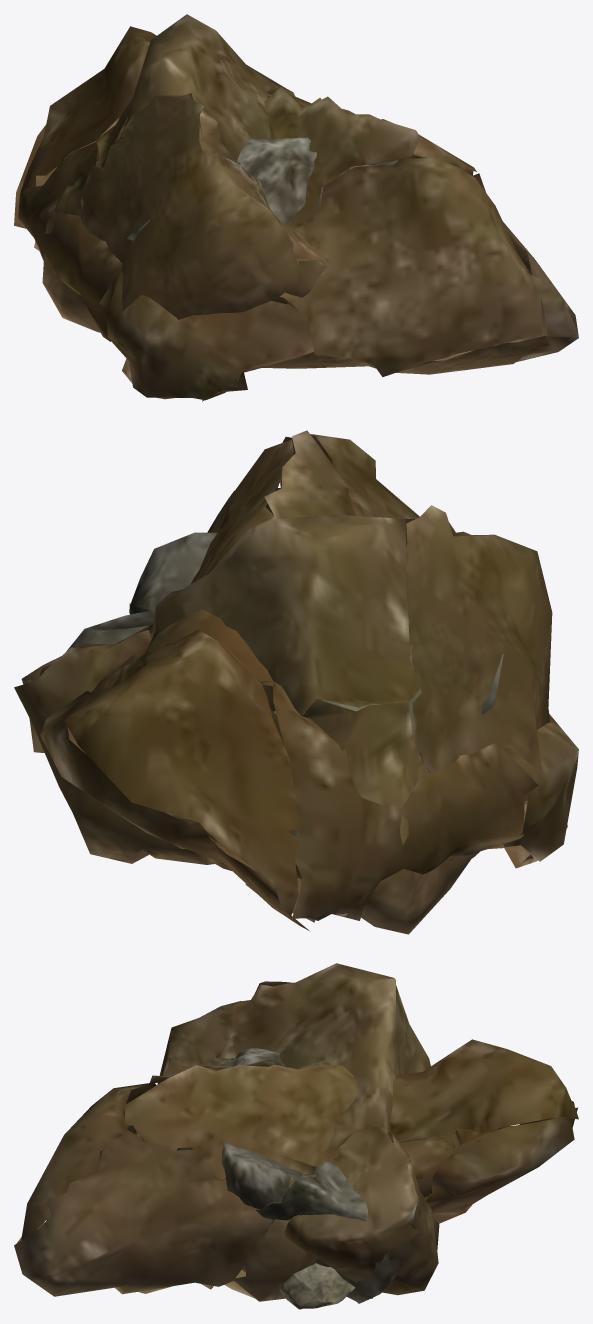
The model's file is rocks.glb.
The picture shows the model from 3 angles, top to bottom: view 1: azimuth 30°, elevation 25°; view 2: azimuth 150°, elevation 25°; view 3: azimuth 270°, elevation 25°; orthographic projection. The views are drawn at different scales.
Parts seen in each view (by area): view 1: Rock0Mesh, Rock1Mesh, Rock2Mesh; view 2: Rock0Mesh, Rock1Mesh, Rock2Mesh; view 3: Rock0Mesh, Rock1Mesh, Rock2Mesh, Rock3Mesh.
Part boxes in pixels (x1=…): Rock0Mesh: x1=14, y1=26, x2=578, y2=401; Rock1Mesh: x1=42, y1=14, x2=328, y2=332; Rock2Mesh: x1=127, y1=137, x2=398, y2=240; Rock0Mesh: x1=40, y1=430, x2=578, y2=930; Rock1Mesh: x1=14, y1=505, x2=552, y2=934; Rock2Mesh: x1=66, y1=532, x2=503, y2=734; Rock0Mesh: x1=14, y1=1039, x2=578, y2=1301; Rock1Mesh: x1=136, y1=963, x2=459, y2=1295; Rock2Mesh: x1=176, y1=1048, x2=423, y2=1303; Rock3Mesh: x1=279, y1=1263, x2=355, y2=1309.
Size of the model in its own units: 2.27 by 1.76 by 3.39.
4 materials, 4 textured.
